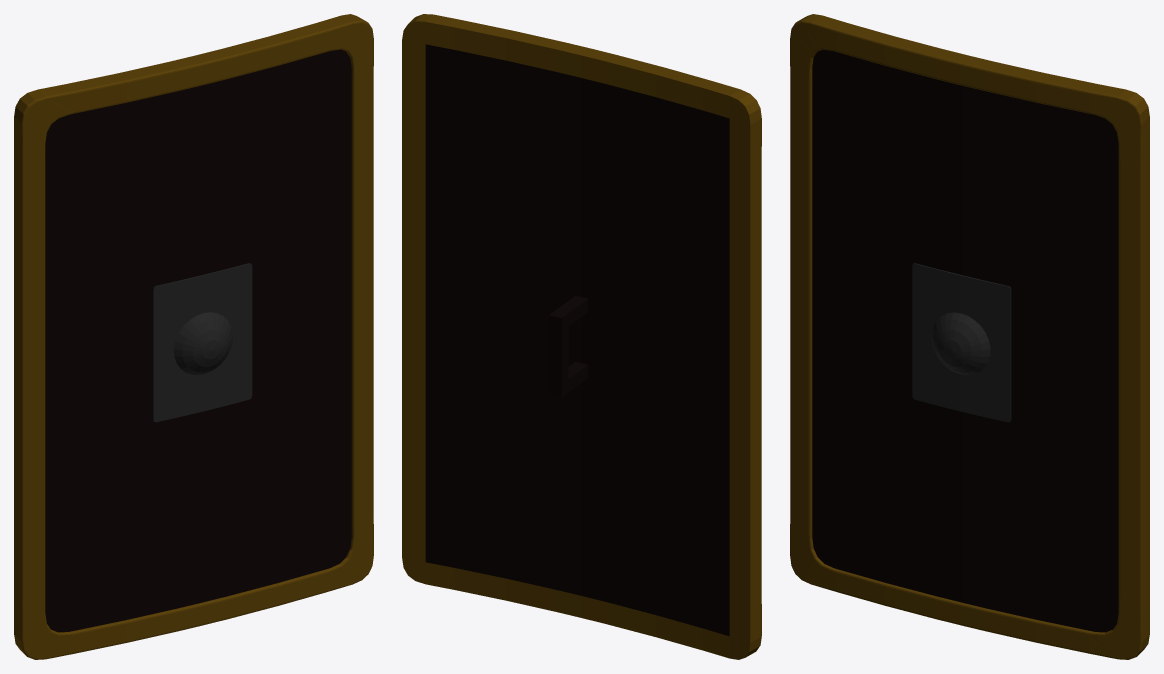
File: shieldV2_skelly.FBX
3 views of the same model, side by side, from view 1: azimuth 30°, elevation 25°; view 2: azimuth 150°, elevation 25°; view 3: azimuth 330°, elevation 25° (orthographic).
Visible parts, largest first — view 1: Shield_skelly; view 2: Shield_skelly; view 3: Shield_skelly.
Boxes of the visible parts, bbox=[...] form: Shield_skelly: bbox=[14, 14, 373, 659]; Shield_skelly: bbox=[402, 14, 761, 659]; Shield_skelly: bbox=[790, 14, 1149, 659].
Size of the model in its own units: 15.29 by 23.35 by 3.37.
